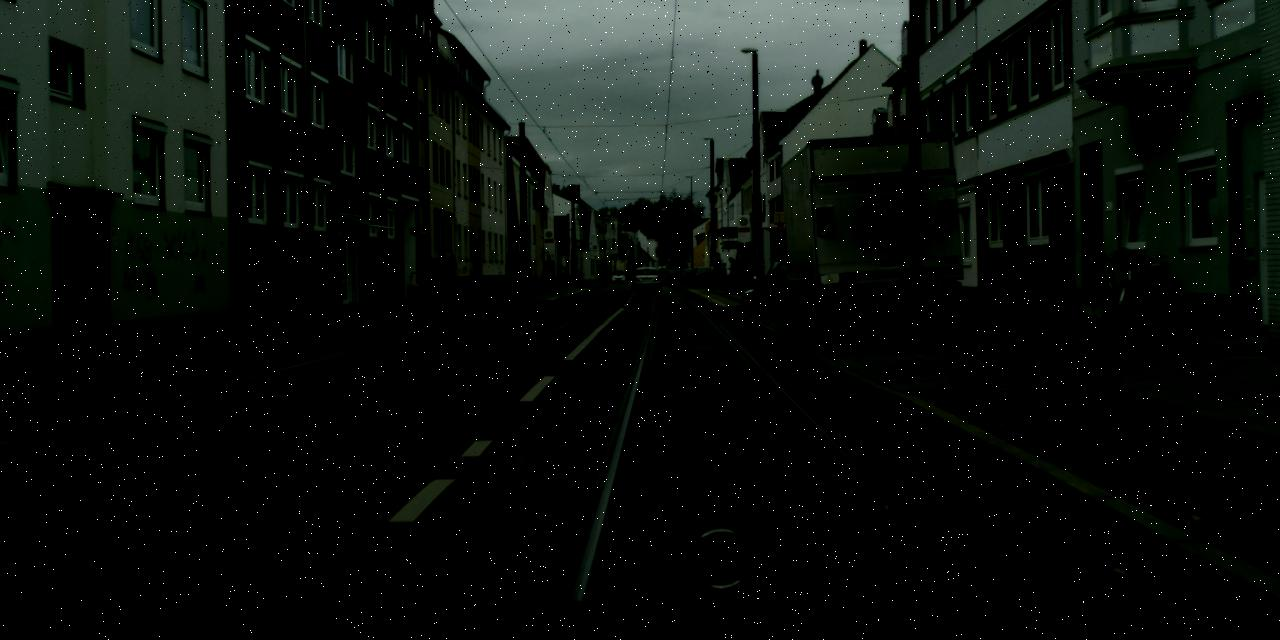ped: (710, 254, 743, 294)
